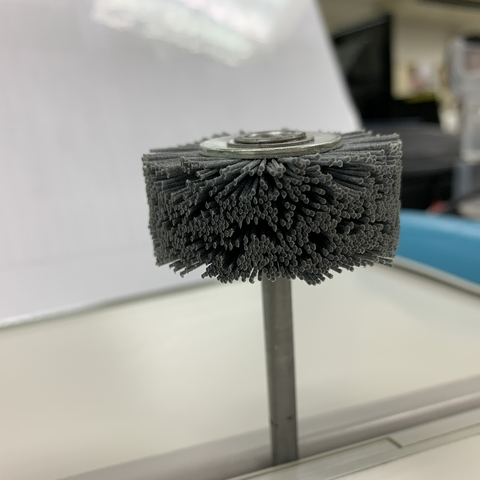Wheel Brush: (128, 120, 406, 428), (151, 122, 404, 442)
